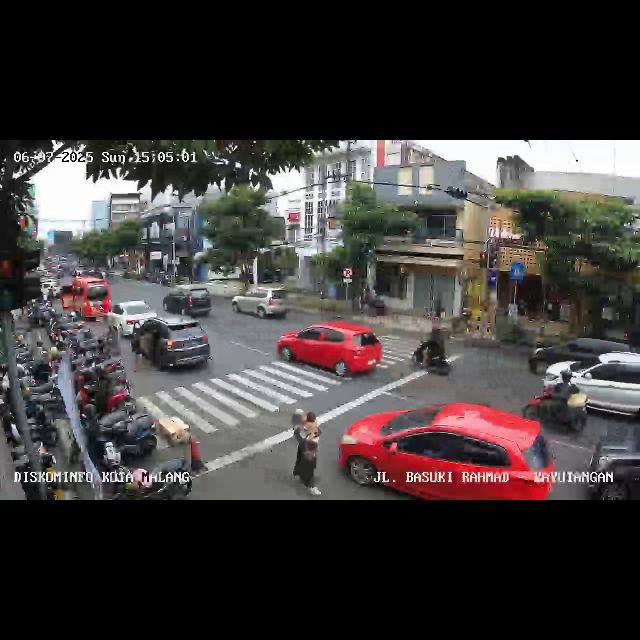car: (338, 402, 554, 500), (544, 351, 640, 427), (278, 319, 388, 385), (130, 316, 212, 376), (530, 330, 630, 378), (584, 434, 640, 500), (59, 276, 110, 322), (234, 286, 288, 322), (107, 300, 157, 338), (162, 284, 214, 320)
motorcycle: (528, 368, 588, 437), (410, 324, 454, 378)
person: (278, 409, 324, 497)
